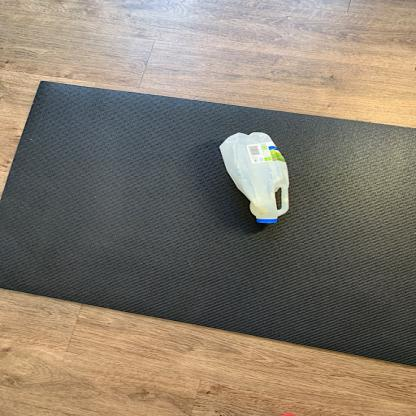trash: (214, 133, 294, 228)
